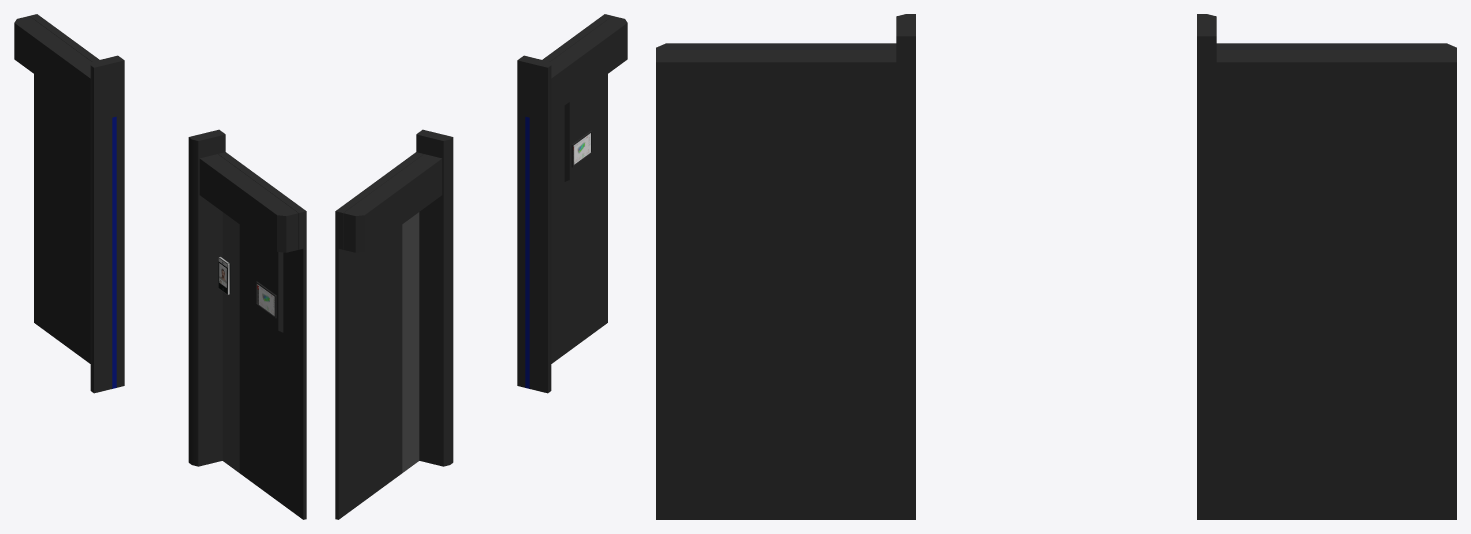
The model's file is menban_b_ping.obj.
3 views of the same model, side by side, from view 1: azimuth 30°, elevation 25°; view 2: azimuth 150°, elevation 25°; view 3: azimuth 270°, elevation 25° (orthographic). The views are drawn at different scales.
Visible parts, largest first — view 1: Rectangle004, Rectangle002, menkuang_007, menkuang_008, Line002, Line001, menban_biaoping_di, Rectangle003, menban_biaoping, Rectangle001, menban_menjin003; view 2: Rectangle002, Rectangle004, menkuang_008, menkuang_007, Line001, Line002, menban_biaoping_di, Rectangle001, menban_biaoping, Rectangle003; view 3: Rectangle002, Rectangle004, Rectangle001, Rectangle003, menkuang_007, menkuang_008, Line001, Line002.
Part boxes in pixels (x1,y1,x2,y2): Rectangle004: [222, 212, 306, 519]; Rectangle002: [34, 74, 90, 363]; menkuang_007: [90, 55, 124, 393]; menkuang_008: [188, 129, 225, 466]; Line002: [199, 154, 298, 252]; Line001: [14, 16, 91, 114]; menban_biaoping_di: [255, 236, 283, 332]; Rectangle003: [218, 152, 306, 249]; menban_biaoping: [255, 281, 276, 318]; Rectangle001: [29, 14, 99, 61]; menban_menjin003: [218, 257, 230, 294]; Rectangle002: [335, 212, 419, 519]; Rectangle004: [551, 74, 607, 363]; menkuang_008: [517, 55, 551, 393]; menkuang_007: [416, 129, 453, 466]; Line001: [343, 154, 442, 252]; Line002: [550, 16, 627, 114]; menban_biaoping_di: [564, 85, 592, 181]; Rectangle001: [335, 152, 423, 249]; menban_biaoping: [571, 130, 592, 167]; Rectangle003: [542, 14, 612, 61]; Rectangle002: [1216, 116, 1456, 519]; Rectangle004: [656, 116, 896, 519]; Rectangle001: [1216, 56, 1456, 116]; Rectangle003: [656, 56, 896, 116]; menkuang_007: [1197, 14, 1216, 519]; menkuang_008: [896, 14, 915, 519]; Line001: [1216, 43, 1456, 56]; Line002: [656, 43, 896, 56].
Size of the model in its own units: 23.6 by 240 by 360.
6 materials, 3 textured.
